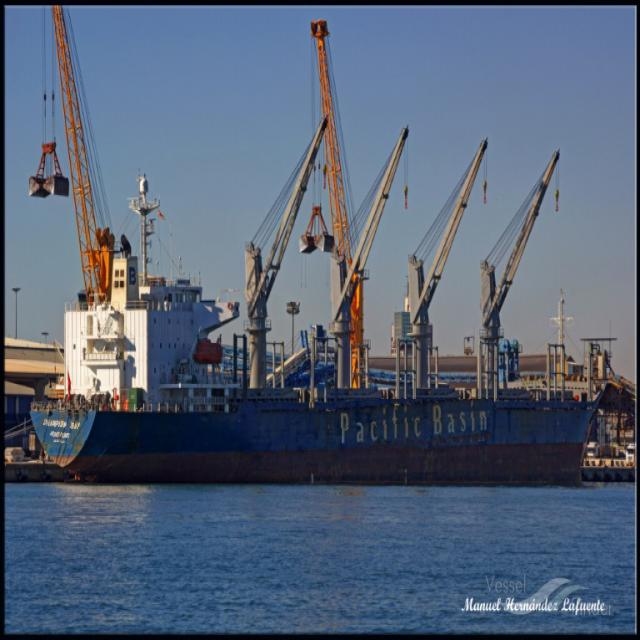OCR: (329, 399, 492, 451), (43, 409, 89, 444)
